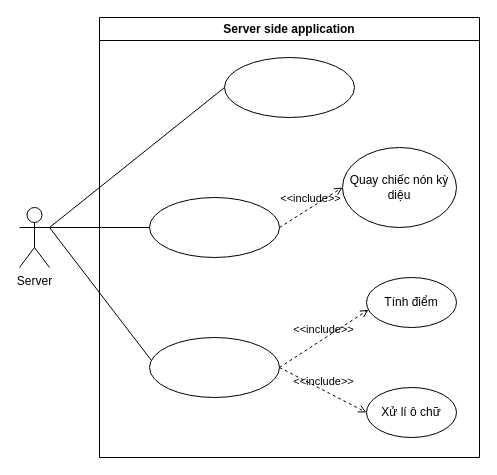
This 497x475 diagram has some shape labels left out. Each missing label, with the box of its shape:
Gửi trạng thái ván đấu: (148, 196, 280, 258)
Kết nối/Thoát: (224, 56, 354, 118)
Nhận ô chữ: (148, 336, 280, 398)
